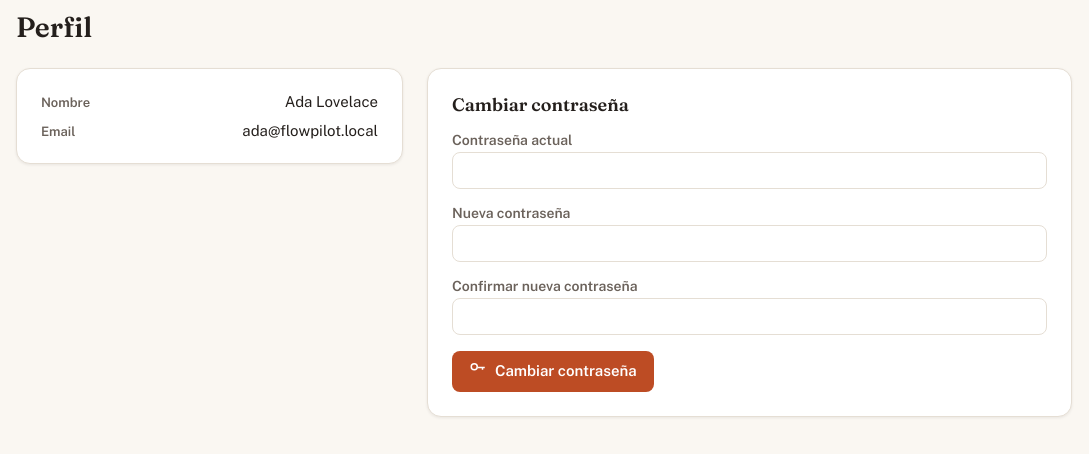
Test case: ProfileComponent › blocks submission client-side when the new password is too short
Type "oldSecret1" into the password field with test id "profile-current-password" at (750, 170), box [452,152,1047,189]
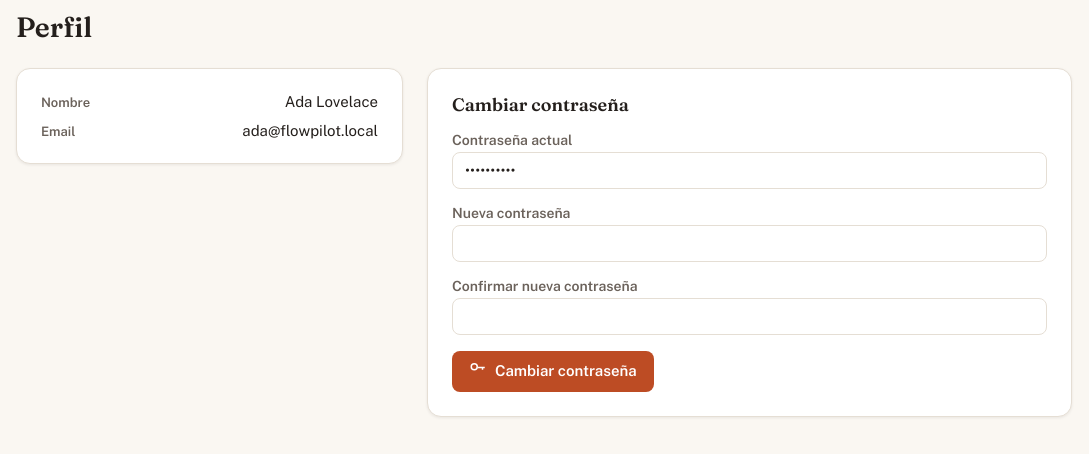
Type "short" into the password field with test id "profile-new-password" at (750, 244), box [452,225,1047,262]
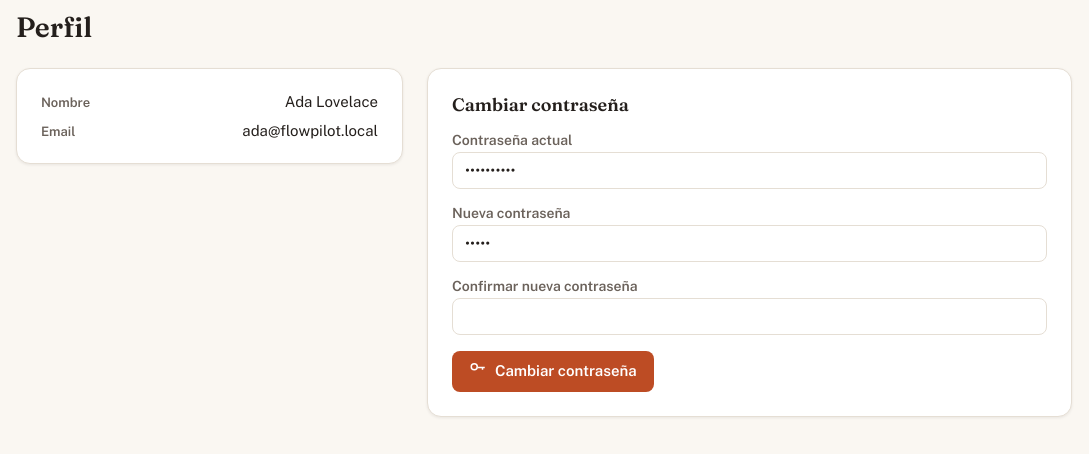
Type "short" into the password field with test id "profile-confirm-password" at (750, 316), box [452,298,1047,335]
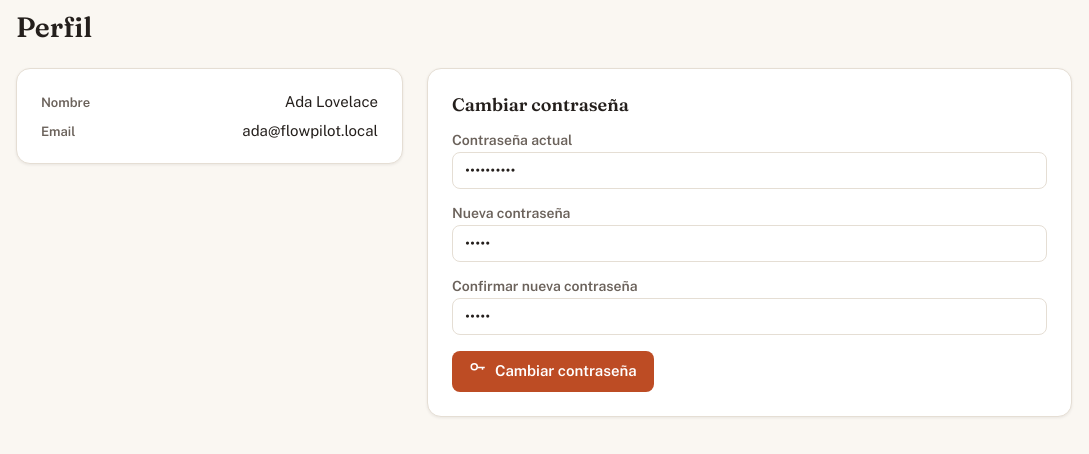
Submit the form, box [452,93,1047,392]
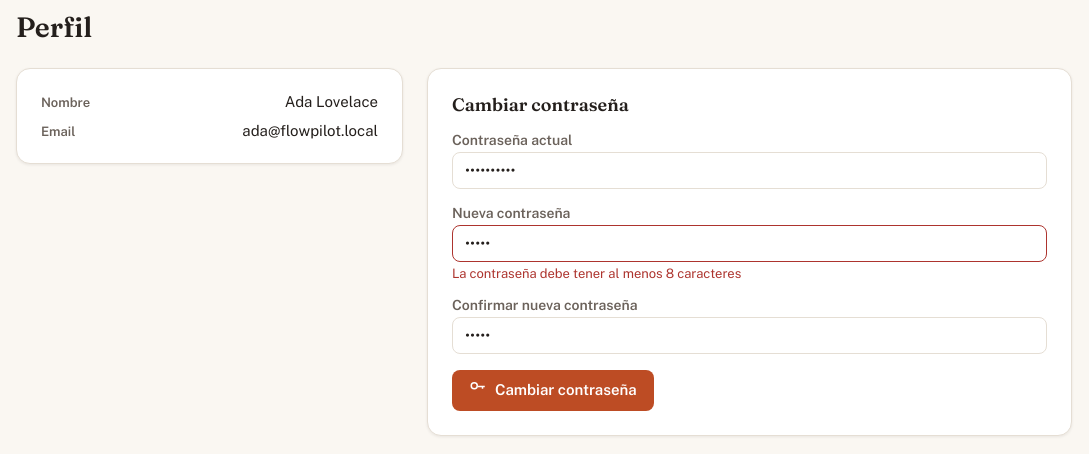
Expected: the text with class "fp-input__error" shows "al menos 8 caracteres", [452,266,741,281]
